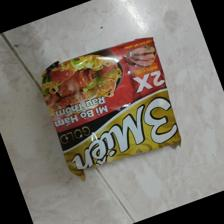3mien: (38, 37, 183, 182)
